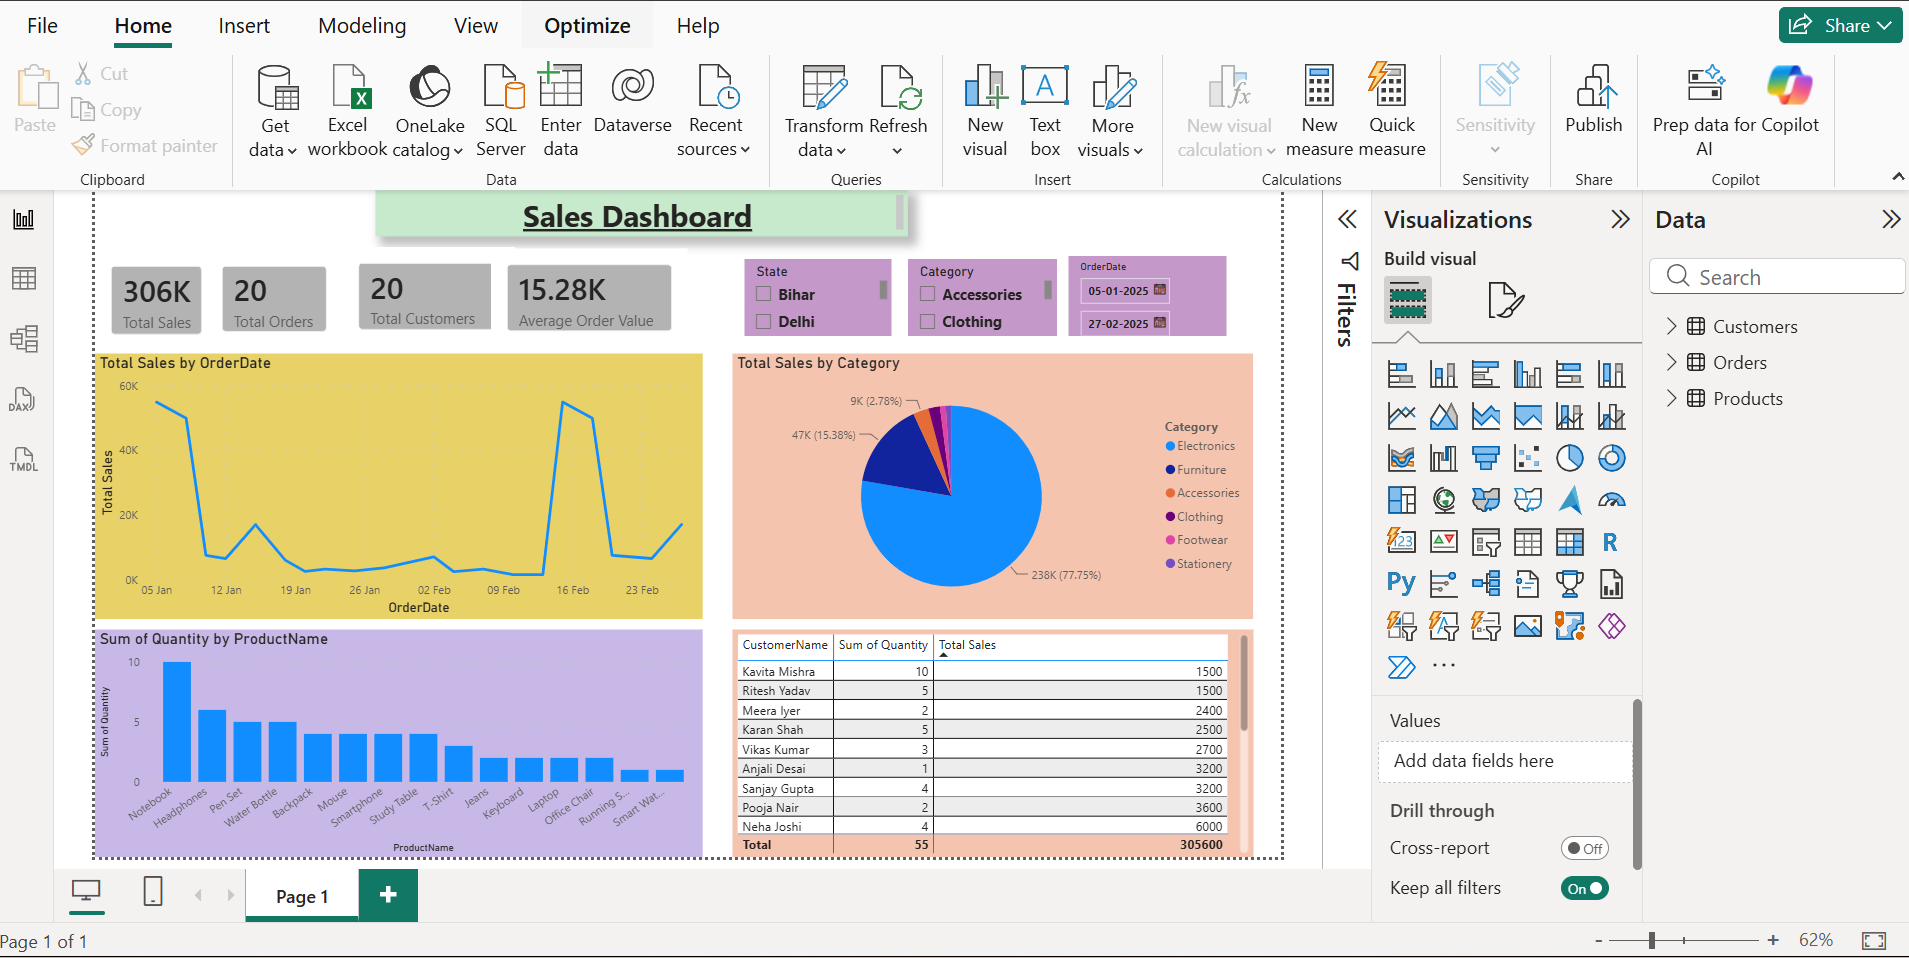

Layout of this report page (visuals, bound fields, positions):
{"tool":"powerbi","page":{"name":"Page 1","canvas":[1280,720],"ordinal":0},"visuals":[{"type":"lineChart","fields":{"Category":["Orders.OrderDate"],"Y":["Orders.Total Sales"]},"box":[0,176.5,655.8,286.6],"z":4000},{"type":"clusteredColumnChart","fields":{"Category":["Products.ProductName"],"Y":["Sum(Orders.Quantity)"]},"box":[0,474.4,655.8,246.1],"z":5000},{"type":"pieChart","fields":{"Category":["Products.Category"],"Y":["Orders.Total Sales"]},"box":[688.2,176.5,561.9,286.6],"z":6000},{"type":"tableEx","fields":{"Values":["Customers.CustomerName","Sum(Orders.Quantity)","Orders.Total Sales"]},"box":[688.2,474.4,561.9,246.1],"z":7000},{"type":"slicer","fields":{"Values":["Customers.State"]},"box":[701.1,74.5,158.7,82.6],"z":8000},{"type":"slicer","fields":{"Values":["Products.Category"]},"box":[877.6,74.5,160.3,82.6],"z":9000},{"type":"slicer","fields":{"Values":["Orders.OrderDate"]},"box":[1050.9,71.2,170,85.8],"z":10000},{"type":"textbox","box":[302.8,0,574.8,50.2],"z":12000},{"type":"cardVisual","fields":{"Data":["Orders.Total Sales"]},"box":[0,64.8,132.8,108.5],"z":12001},{"type":"cardVisual","fields":{"Data":["Orders.Total Orders"]},"box":[119.8,64.8,147.3,105.2],"z":12002},{"type":"cardVisual","fields":{"Data":["Orders.Total Customers"]},"box":[267.2,61.5,186.2,106.9],"z":12003},{"type":"cardVisual","fields":{"Data":["Orders.Average Order Value"]},"box":[427.5,63.1,212.1,106.9],"z":12004}]}

Visuals, with their boxes on the page's 1280x720 design canvas (x1, y1, x2, y2). These are canvas units, not pixel positions in the 1909x958 screenshot, which may show the page scaled, cropped or inside an application window:
lineChart - Orders.OrderDate x Orders.Total Sales: rect(0, 176, 656, 463)
clusteredColumnChart - Products.ProductName x Sum(Orders.Quantity): rect(0, 474, 656, 720)
pieChart - Products.Category x Orders.Total Sales: rect(688, 176, 1250, 463)
tableEx - Customers.CustomerName x Sum(Orders.Quantity): rect(688, 474, 1250, 720)
slicer - Customers.State: rect(701, 74, 860, 157)
slicer - Products.Category: rect(878, 74, 1038, 157)
slicer - Orders.OrderDate: rect(1051, 71, 1221, 157)
textbox: rect(303, 0, 878, 50)
cardVisual - Orders.Total Sales: rect(0, 65, 133, 173)
cardVisual - Orders.Total Orders: rect(120, 65, 267, 170)
cardVisual - Orders.Total Customers: rect(267, 62, 453, 168)
cardVisual - Orders.Average Order Value: rect(428, 63, 640, 170)
